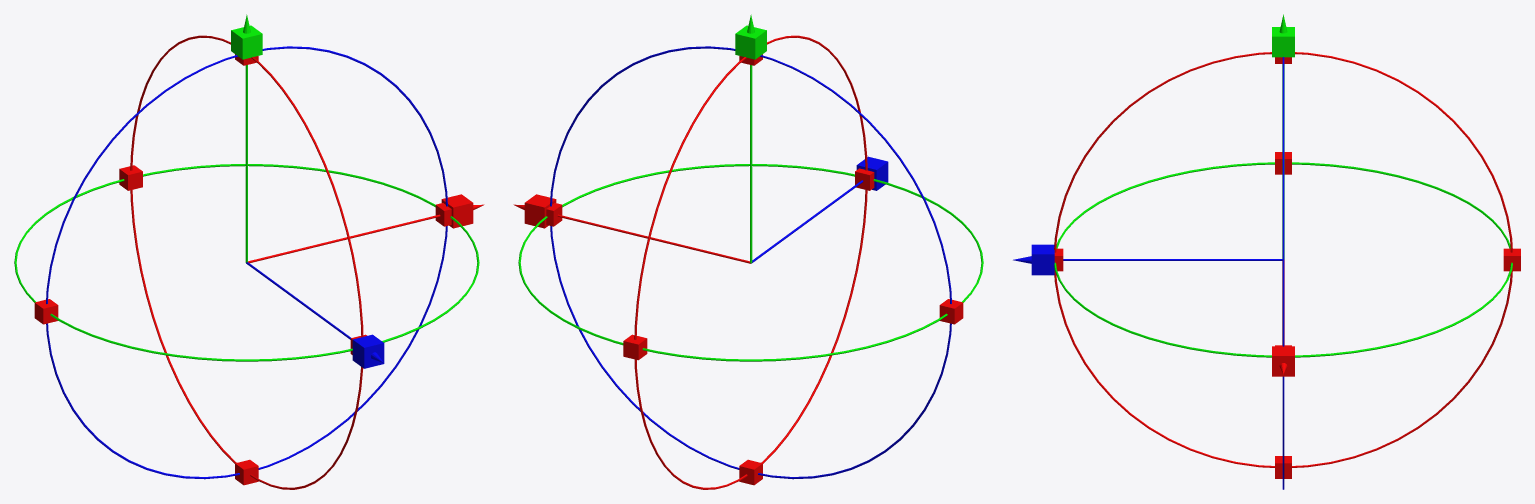
The model's file is axis_all.fbx.
The picture shows the model from 3 angles, left to right: view 1: azimuth 30°, elevation 25°; view 2: azimuth 150°, elevation 25°; view 3: azimuth 270°, elevation 25°; orthographic projection.
Parts seen in each view (by area): view 1: pTorus3, pTorus2, pTorus4, pCube2 (×3), pCylinder1 (×2), pCube8, pCube6; view 2: pTorus3, pTorus2, pTorus4, pCube2 (×3), pCylinder1 (×2), pCube6, pCube8; view 3: pTorus2, pTorus4, pCube2 (×3), pTorus3.
Part boxes in pixels (x1,y1,x2,y2): pTorus3: (46,46,447,479); pTorus2: (130,35,363,489); pTorus4: (14,164,479,361); pCube2 (×3): (231,25,473,368); pCylinder1 (×2): (245,65,440,263); pCube8: (34,299,58,324); pCube6: (119,165,142,190); pTorus3: (550,46,951,479); pTorus2: (634,35,867,489); pTorus4: (518,164,983,361); pCube2 (×3): (524,25,888,228); pCylinder1 (×2): (557,65,752,263); pCube6: (623,334,647,360); pCube8: (939,299,963,324); pTorus2: (1054,52,1512,467); pTorus4: (1054,162,1512,357); pCube2 (×3): (1031,27,1294,376); pTorus3: (1282,57,1284,489).
Size of the model in its own units: 4.45 by 4.45 by 4.45.
